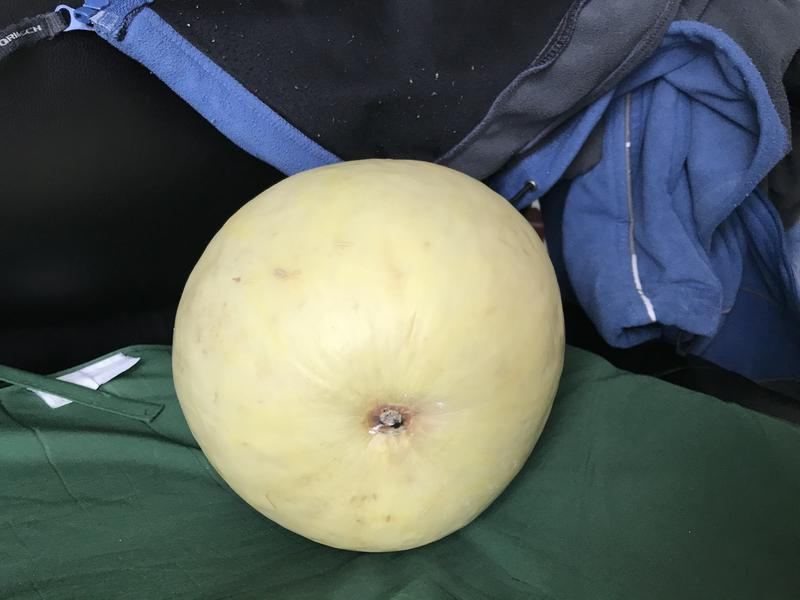honeydew: (162, 143, 574, 570)
